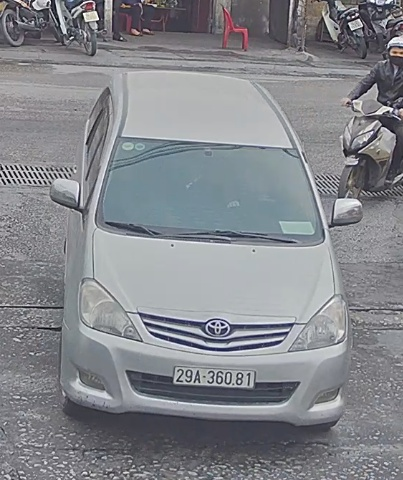vehicle plate: (170, 356, 264, 391)
